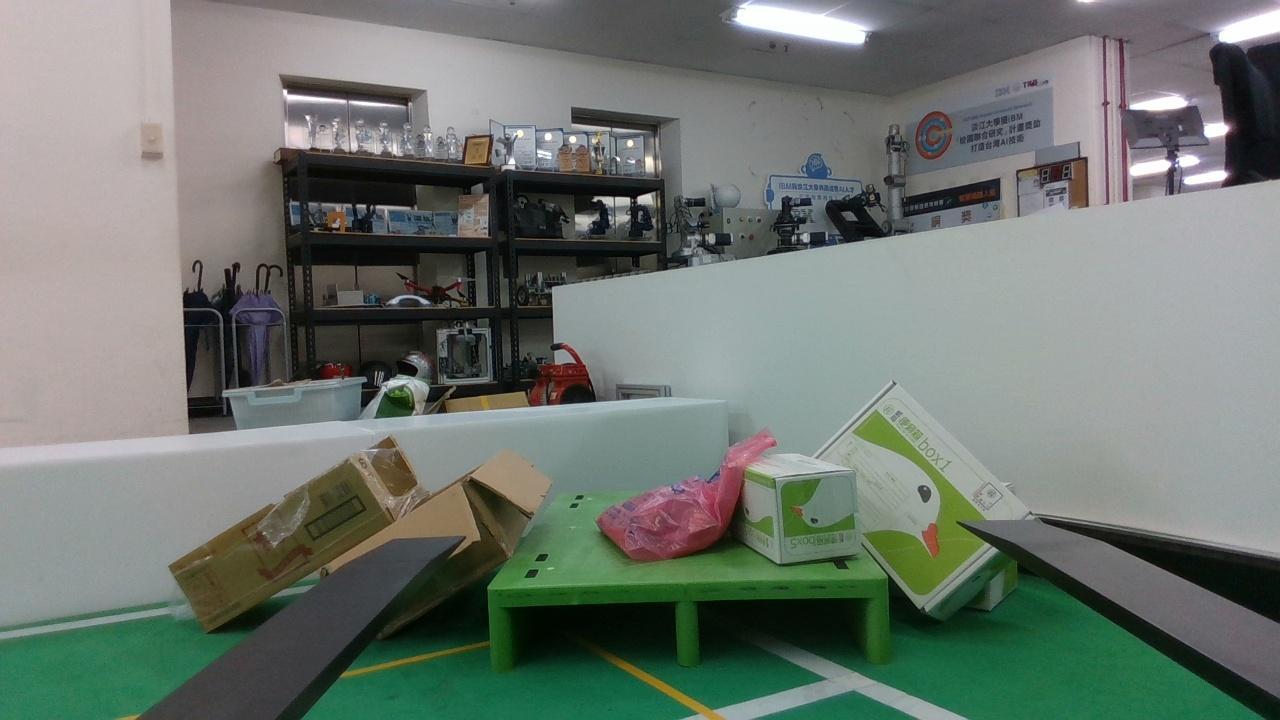Pallet: (490, 576, 892, 668)
